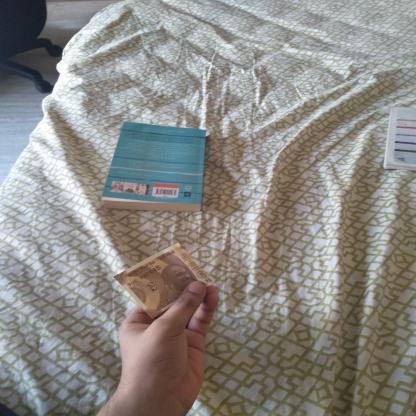New10Front: (119, 244, 213, 312)
